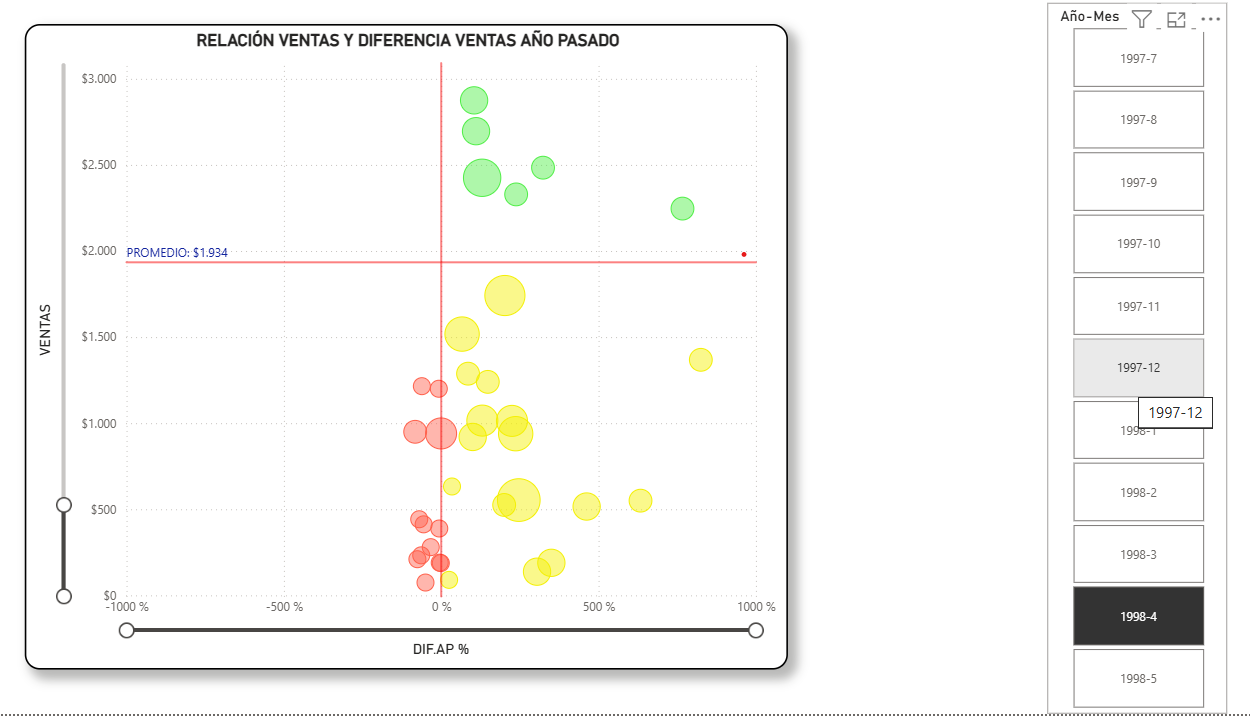

This screenshot's page, from the dashboard's own definition file:
{"tool":"powerbi","page":{"name":"DISPERSIÓN","canvas":[1280,720],"ordinal":0},"visuals":[{"type":"scatterChart","title":"RELACIÓN VENTAS Y DIFERENCIA VENTAS AÑO PASADO","fields":{"Category":["Products.ProductName"],"Y":["MEDIDAS.VENTAS"],"X":["MEDIDAS.DIF.AP %"],"Size":["MEDIDAS.CANTIDAD ORDENES"]},"box":[28.6,30.4,763.4,645.4],"z":0},{"type":"slicer","fields":{"Values":["CALENDARIO.Año-Mes"]},"box":[1051.2,8.9,180.6,711.5],"z":1000}]}

Visuals, with their boxes on the page's 1280x720 design canvas (x1, y1, x2, y2). These are canvas units, not pixel positions in the 1250x723 screenshot, which may show the page scaled, cropped or inside an application window:
"RELACIÓN VENTAS Y DIFERENCIA VENTAS AÑO PASADO" scatterChart: 29, 30, 792, 676
slicer - CALENDARIO.Año-Mes: 1051, 9, 1232, 720
